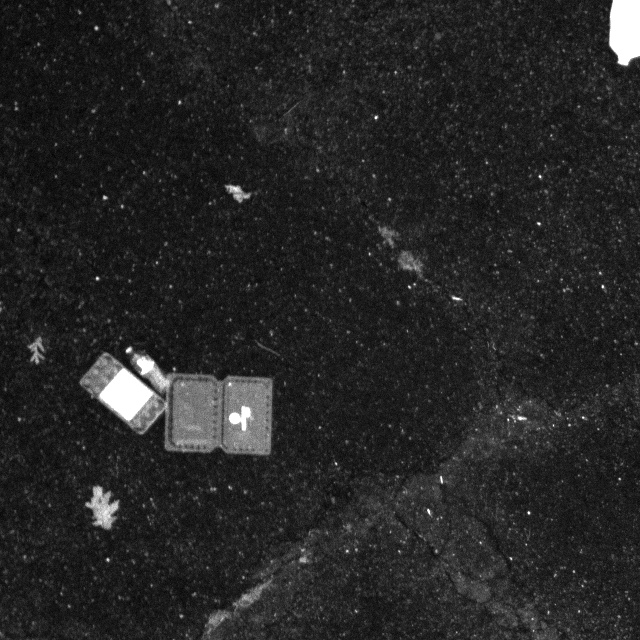bottle: (121, 346, 175, 394)
container: (157, 368, 283, 465), (76, 349, 173, 438)
